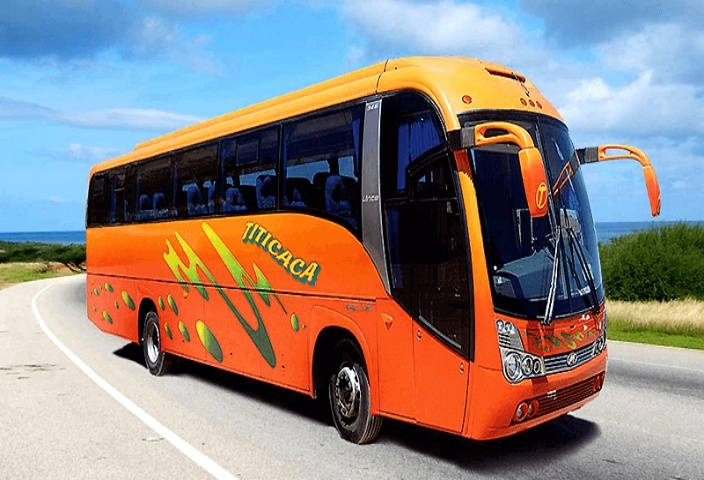bus: (67, 42, 665, 461)
